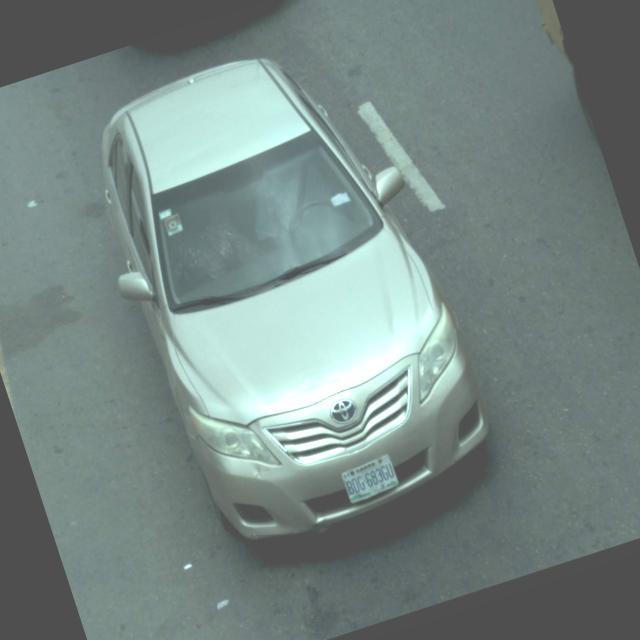windshield: (150, 126, 386, 315)
